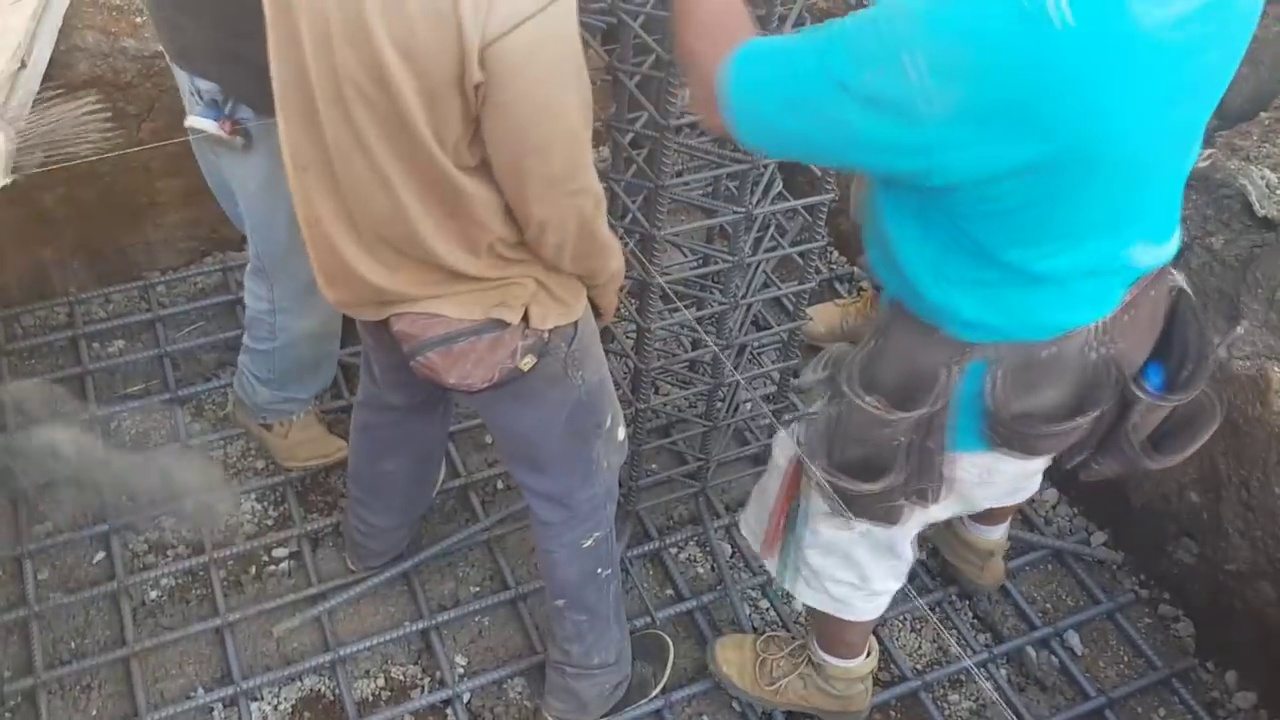person: (681, 0, 1265, 716), (253, 1, 672, 715), (136, 0, 352, 468)
